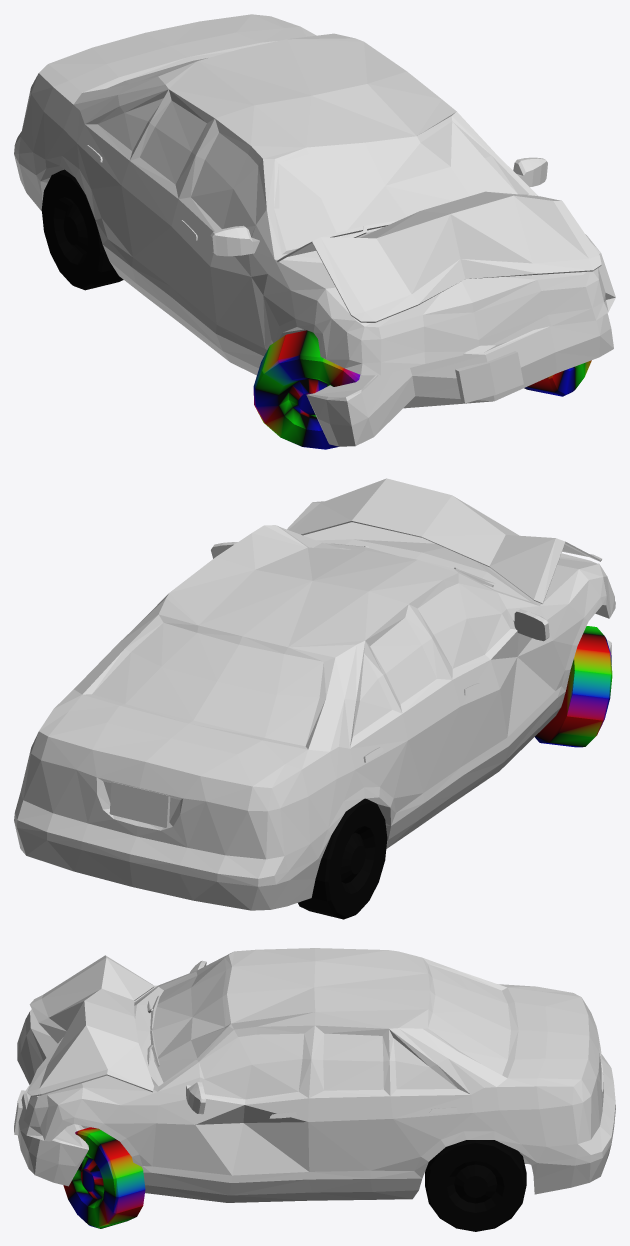
Rendered from beyaz.FBX.
The picture shows the model from 3 angles, top to bottom: view 1: azimuth 30°, elevation 25°; view 2: azimuth 150°, elevation 25°; view 3: azimuth 270°, elevation 25°; orthographic projection. The views are drawn at different scales.
Parts seen in each view (by area): view 1: beyaz; view 2: beyaz; view 3: beyaz.
Boxes of the visible parts, x1,y1,x2,y2 form: beyaz: (14, 14, 615, 449); beyaz: (14, 478, 615, 919); beyaz: (14, 948, 615, 1231).
Size of the model in its own units: 234 by 150 by 428.
